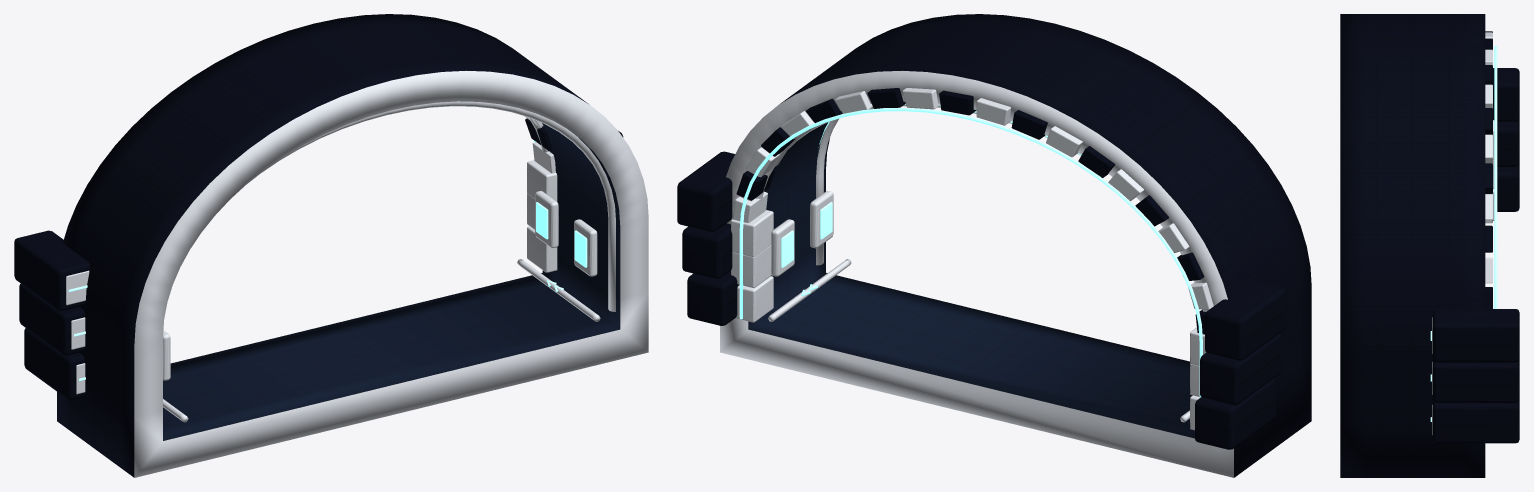
Rendered from portal_exit.glb.
The picture shows the model from 3 angles, left to right: view 1: azimuth 30°, elevation 25°; view 2: azimuth 150°, elevation 25°; view 3: azimuth 270°, elevation 25°; orthographic projection. The views are drawn at different scales.
Visible parts, largest first — view 1: TunnelGeometry; view 2: TunnelGeometry; view 3: TunnelGeometry.
Boxes of the visible parts, <box> form: TunnelGeometry: <box>14,14,648,477</box>; TunnelGeometry: <box>677,14,1311,477</box>; TunnelGeometry: <box>1340,14,1519,477</box>.
Size of the model in its own units: 16.85 by 9.52 by 4.95.
Materials: 4 (2 with a texture image).
